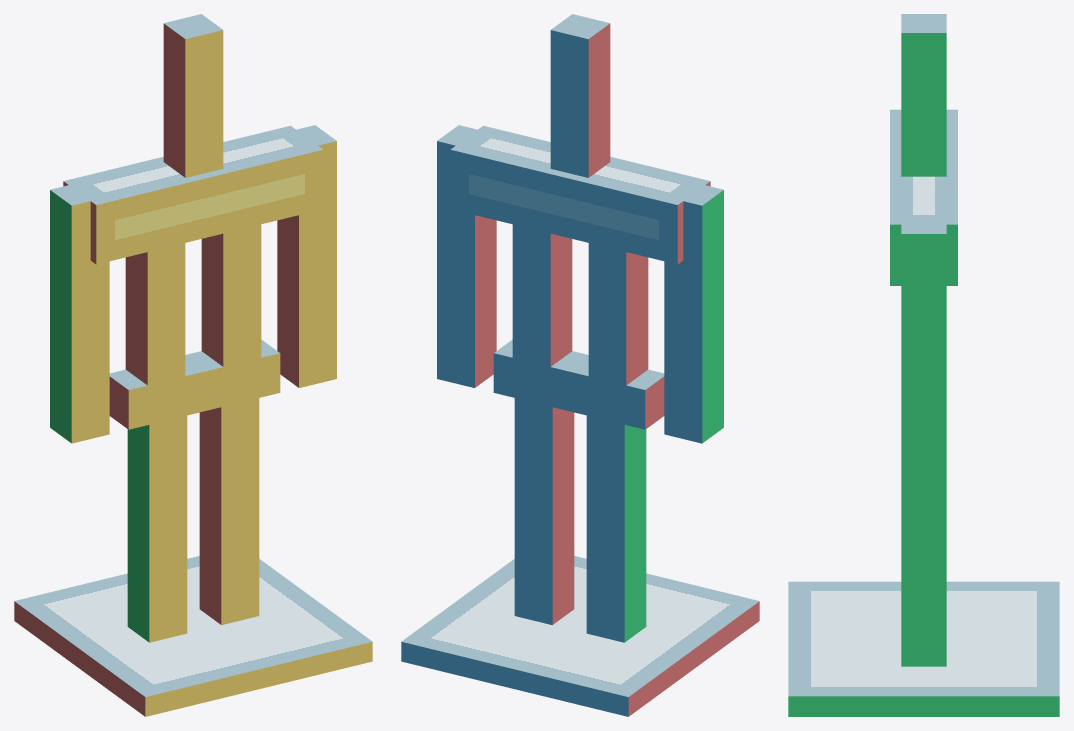
The picture shows the model from 3 angles, left to right: view 1: azimuth 30°, elevation 25°; view 2: azimuth 150°, elevation 25°; view 3: azimuth 270°, elevation 25°; orthographic projection. The views are drawn at different scales.
Parts seen in each view (by area): view 1: body (×4), baseplate, LeftArm, LeftLeg, RightLeg, RightArm, head; view 2: body (×4), baseplate, LeftArm, LeftLeg, RightLeg, RightArm, head; view 3: baseplate, RightArm, RightLeg, head, body.
Boxes of the visible parts, box(x1,y1,x2,y2) form: body (×4): box(63, 125, 323, 429); baseplate: box(14, 556, 372, 716); LeftArm: box(50, 181, 109, 443); LeftLeg: box(127, 415, 187, 642); RightLeg: box(199, 398, 259, 624); RightArm: box(277, 125, 336, 387); head: box(163, 14, 223, 177); body (×4): box(450, 125, 710, 429); baseplate: box(401, 556, 759, 716); LeftArm: box(664, 181, 723, 443); LeftLeg: box(586, 415, 646, 642); RightLeg: box(514, 398, 574, 624); RightArm: box(437, 125, 496, 387); head: box(550, 14, 610, 177); baseplate: box(788, 581, 1059, 716); RightArm: box(901, 218, 946, 480); RightLeg: box(901, 480, 946, 666); head: box(901, 14, 946, 176); body: box(890, 109, 957, 285).
Size of the model in its own units: 0.875 by 1.94 by 0.75.
1 material, 1 textured.
